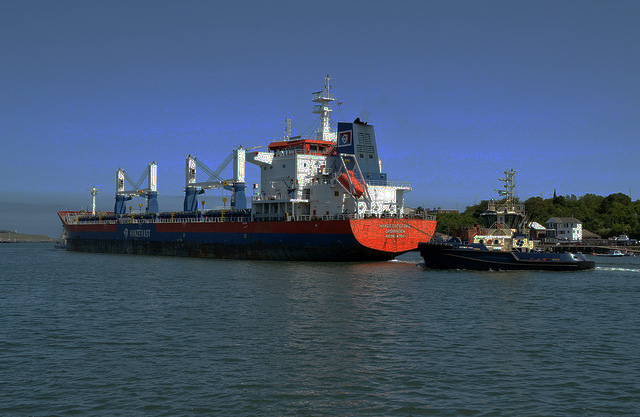bulk carrier: (57, 70, 430, 263)
tug_boat: (416, 160, 600, 275)
